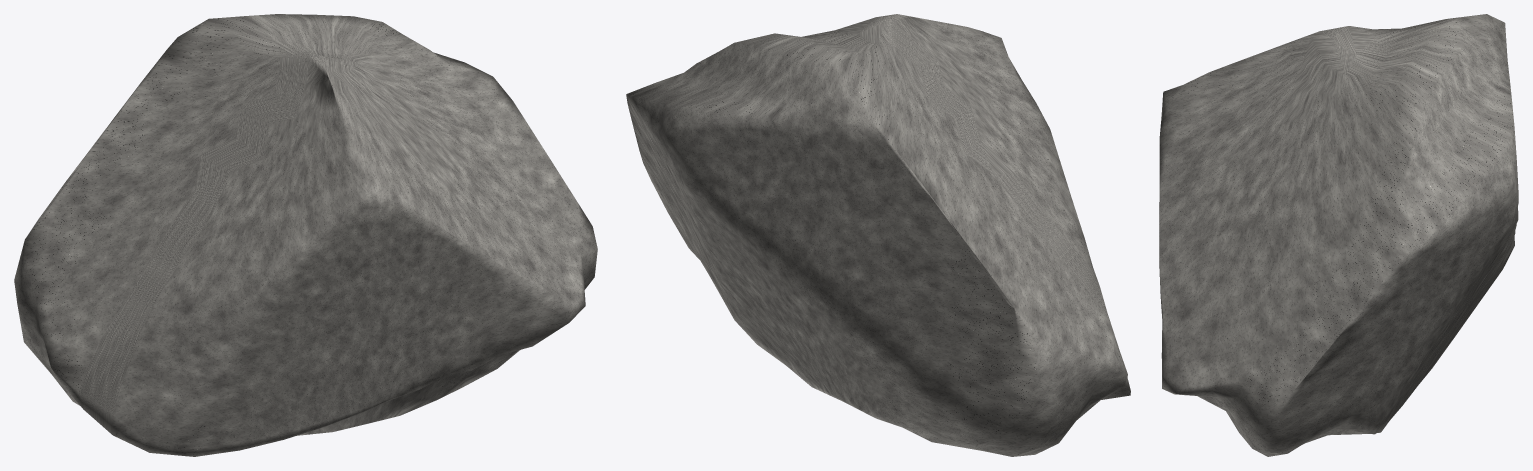
File: obstacle_mid_7.dae
The picture shows the model from 3 angles, left to right: view 1: azimuth 30°, elevation 25°; view 2: azimuth 150°, elevation 25°; view 3: azimuth 270°, elevation 25°; orthographic projection. The views are drawn at different scales.
Visible parts, largest first — view 1: obstacle_mid_7; view 2: obstacle_mid_7; view 3: obstacle_mid_7.
Part boxes in pixels (x1,y1,x2,y2): obstacle_mid_7: (14, 14, 597, 456); obstacle_mid_7: (626, 14, 1130, 456); obstacle_mid_7: (1159, 14, 1518, 456).
Bounding box in the file's own units: 1 × 0.5762 × 0.6737.
Materials: 1 (1 with a texture image).
